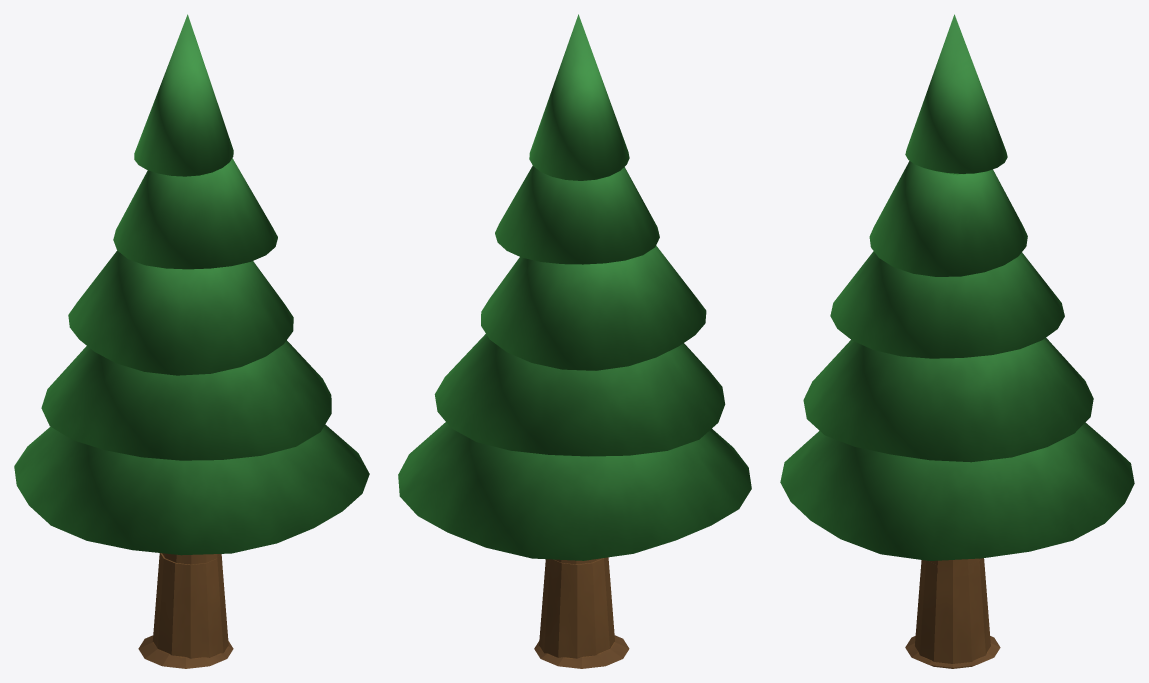
File: pine_a.hi.glb
3 views of the same model, side by side, from view 1: azimuth 30°, elevation 25°; view 2: azimuth 150°, elevation 25°; view 3: azimuth 270°, elevation 25° (orthographic).
Parts seen in each view (by area): view 1: pine; view 2: pine; view 3: pine.
Boxes of the visible parts, x1,y1,x2,y2 form: pine: [14, 14, 369, 668]; pine: [398, 14, 751, 668]; pine: [780, 14, 1134, 668].
Size of the model in its own units: 5.06 by 10.02 by 5.05.
1 material, 1 textured.
